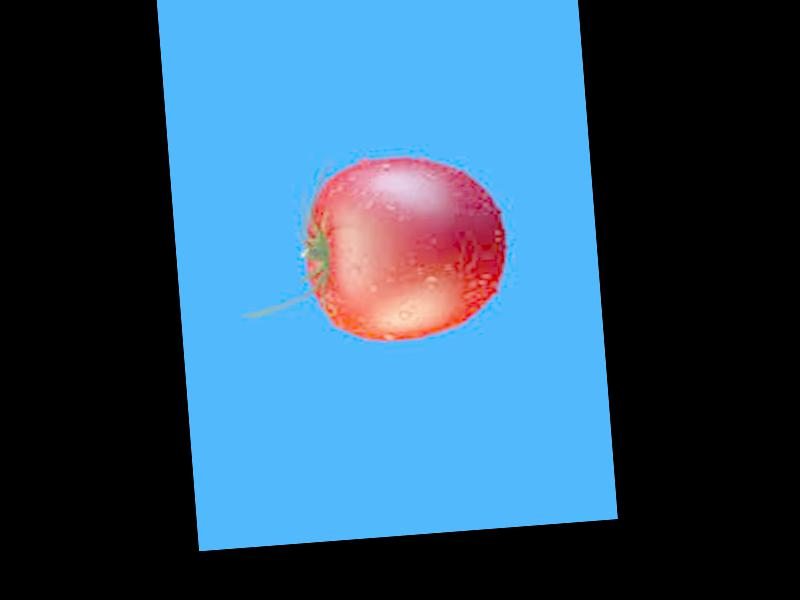Tomato: (297, 147, 513, 347)
